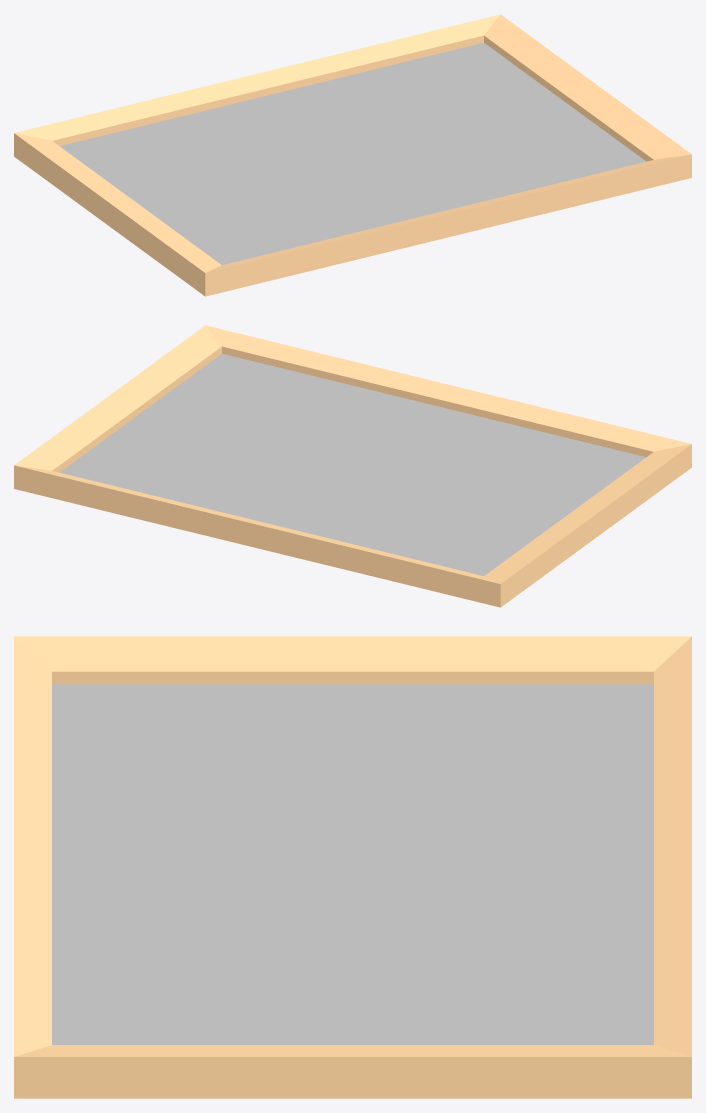
Rendered from frame.fbx.
3 renders of one model, top to bottom at view 1: azimuth 30°, elevation 25°; view 2: azimuth 150°, elevation 25°; view 3: azimuth 270°, elevation 25°, orthographic. The views are drawn at different scales.
Parts seen in each view (by area): view 1: Cube; view 2: Cube; view 3: Cube.
Boxes of the visible parts, box(x1,y1,x2,y2) form: Cube: box(14, 14, 691, 296); Cube: box(14, 325, 691, 607); Cube: box(14, 636, 691, 1098).
Bounding box in the file's own units: 608 × 28.07 × 414.
